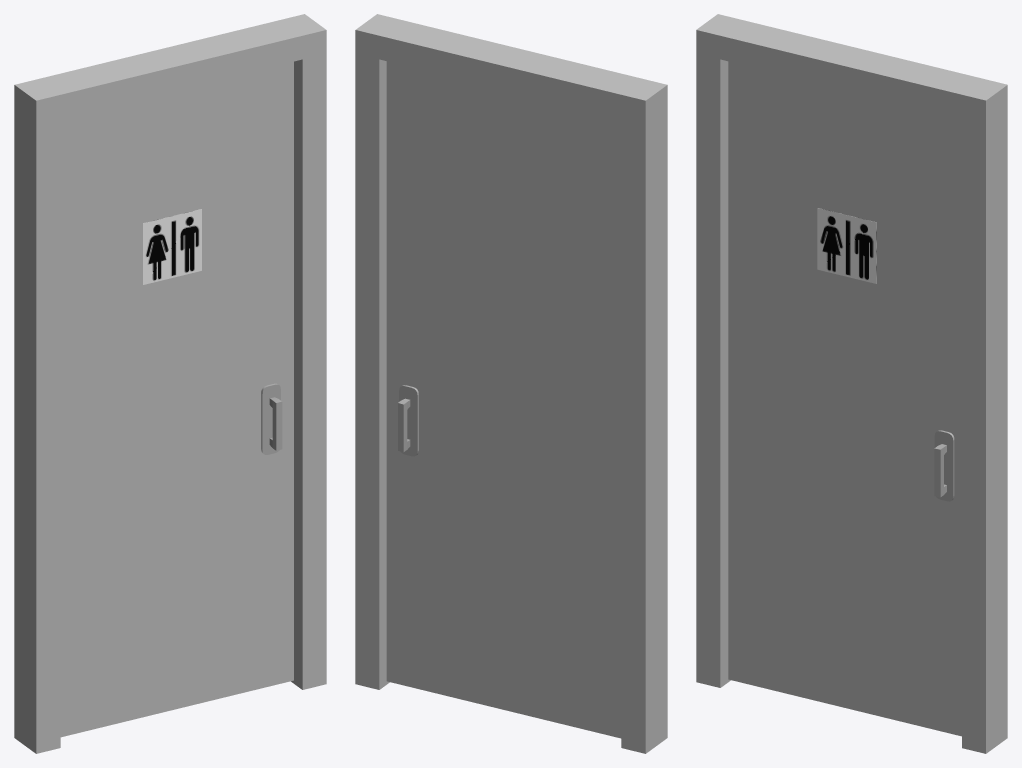
The model's file is Toilet door.fbx.
3 views of the same model, side by side, from view 1: azimuth 30°, elevation 25°; view 2: azimuth 150°, elevation 25°; view 3: azimuth 330°, elevation 25° (orthographic).
Parts seen in each view (by area): view 1: Toilet Door, door frame; view 2: Toilet Door, door frame; view 3: Toilet Door, door frame.
Part boxes in pixels (x1,y1,x2,y2): Toilet Door: (60,61,293,737); door frame: (14,14,326,753); Toilet Door: (386,61,621,738); door frame: (355,14,667,753); Toilet Door: (728,61,961,736); door frame: (696,14,1007,753).
Size of the model in its own units: 984 by 2120 by 148.
